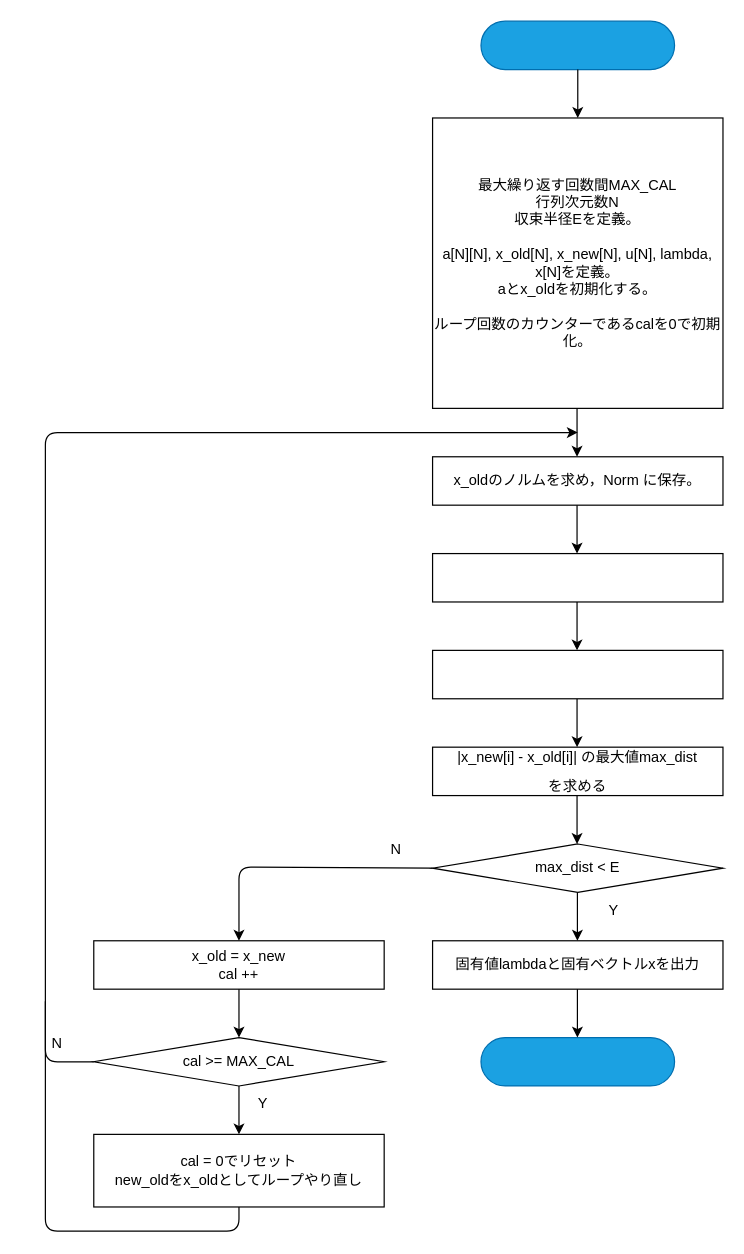
Image size: 744x1254. Some labels were removed from this diagram. Here are the shapes that lost their labels. From the top down, the box of each, then its label:
(480, 20, 675, 70): 始め
(431, 552, 723, 602): ベクトルx_oldを基準化しuとする。
(431, 649, 723, 699): x_new = Auとする
(480, 1036, 675, 1086): 終了
